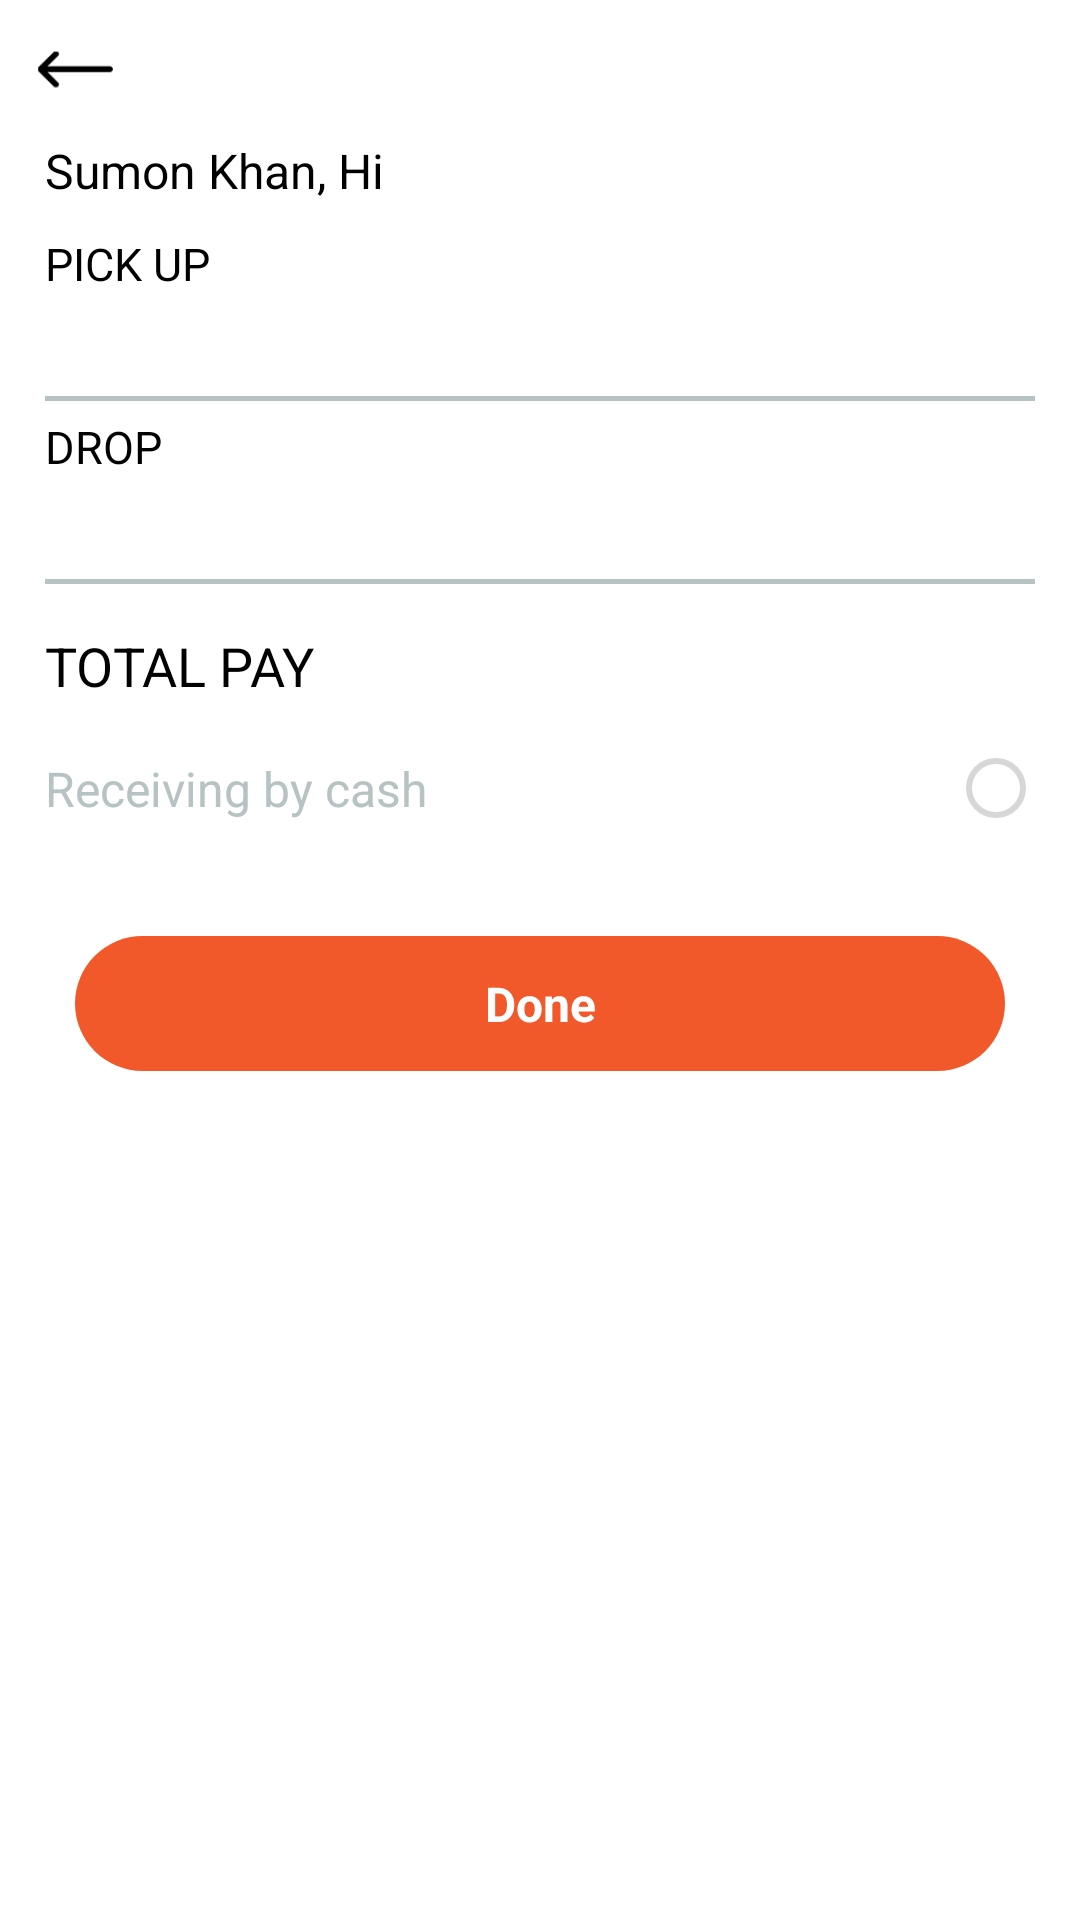

Where icons sit on this 1080*1920 app screen, as {"x1": x1, "y1": y1, "x2": x2, "y2": y2}:
backarrow: {"x1": 38, "y1": 51, "x2": 113, "y2": 88}
